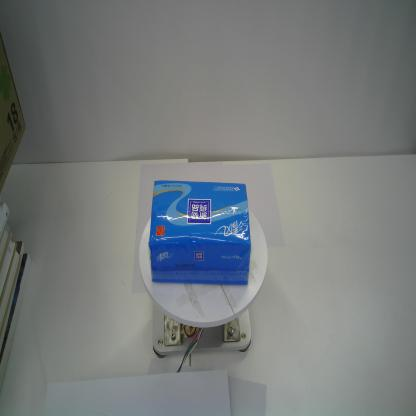Tissue: (148, 179, 252, 285)
